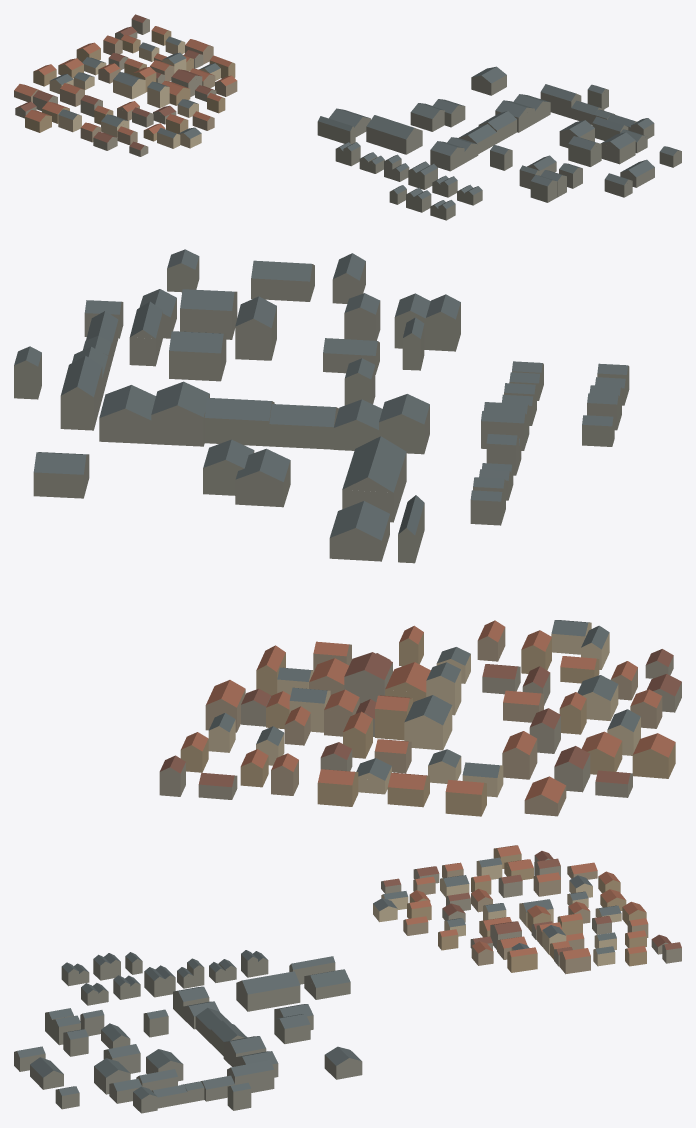
3 views of the same model, one above another, from view 1: azimuth 30°, elevation 25°; view 2: azimuth 150°, elevation 25°; view 3: azimuth 270°, elevation 25° (orthographic). The views are drawn at different scales.
Visible parts, largest first — view 1: C_-2_-3; view 2: C_-2_-3; view 3: C_-2_-3.
Part boxes in pixels (left/top/right/bottom): C_-2_-3: left=14, top=14, right=681, bottom=220; C_-2_-3: left=14, top=249, right=681, bottom=816; C_-2_-3: left=14, top=845, right=681, bottom=1113.
Size of the model in its own units: 333 by 15.5 by 368.
